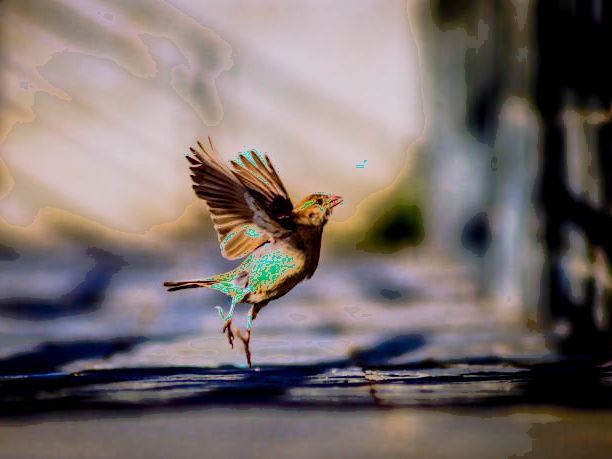Bird: (159, 137, 346, 376)
